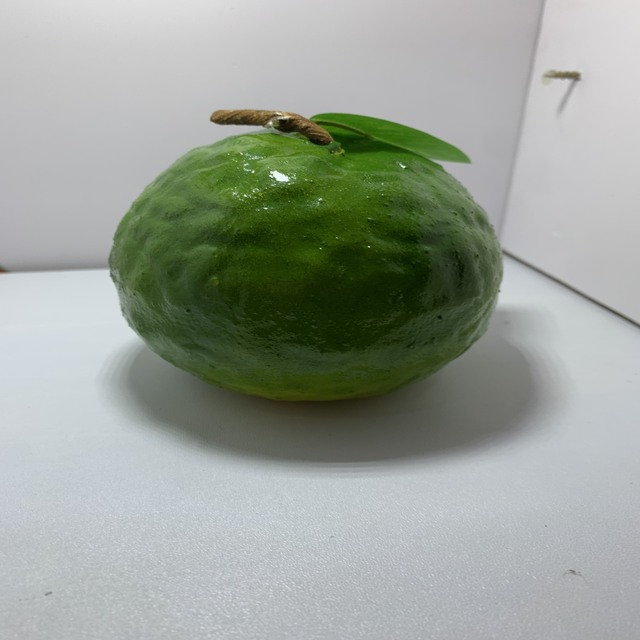Cam xanh: (101, 89, 512, 427)
